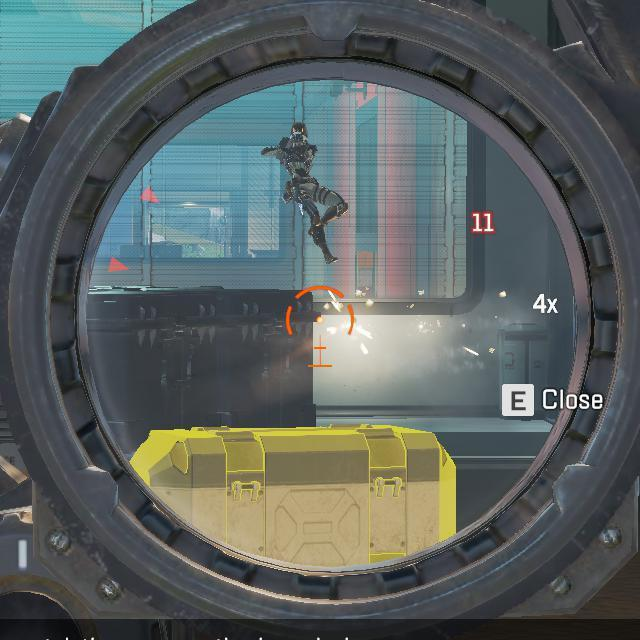avatar: (258, 118, 348, 265)
